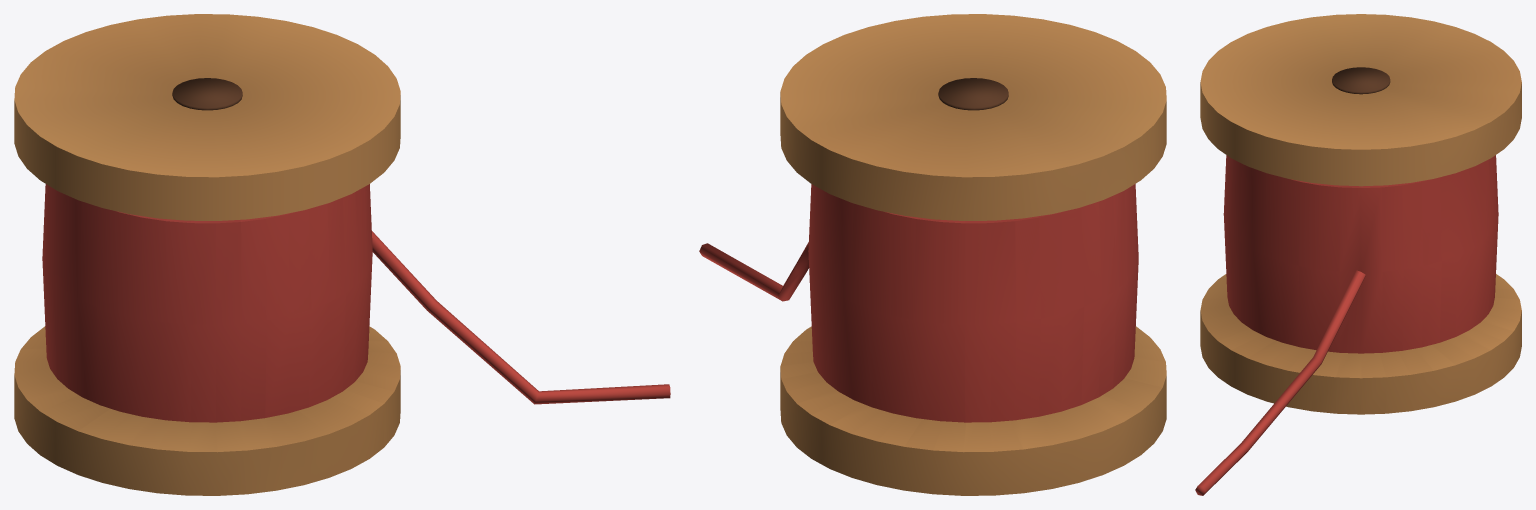
Rendered from den_spool.glb.
3 views of the same model, side by side, from view 1: azimuth 30°, elevation 25°; view 2: azimuth 150°, elevation 25°; view 3: azimuth 270°, elevation 25° (orthographic). The views are drawn at different scales.
Visible parts, largest first — view 1: den_spool; view 2: den_spool; view 3: den_spool.
Part boxes in pixels (left/top/right/bottom): den_spool: left=14, top=14, right=670, bottom=495; den_spool: left=699, top=14, right=1166, bottom=495; den_spool: left=1195, top=14, right=1521, bottom=495.
Size of the model in its own units: 7.03 by 4.04 by 4.47.
